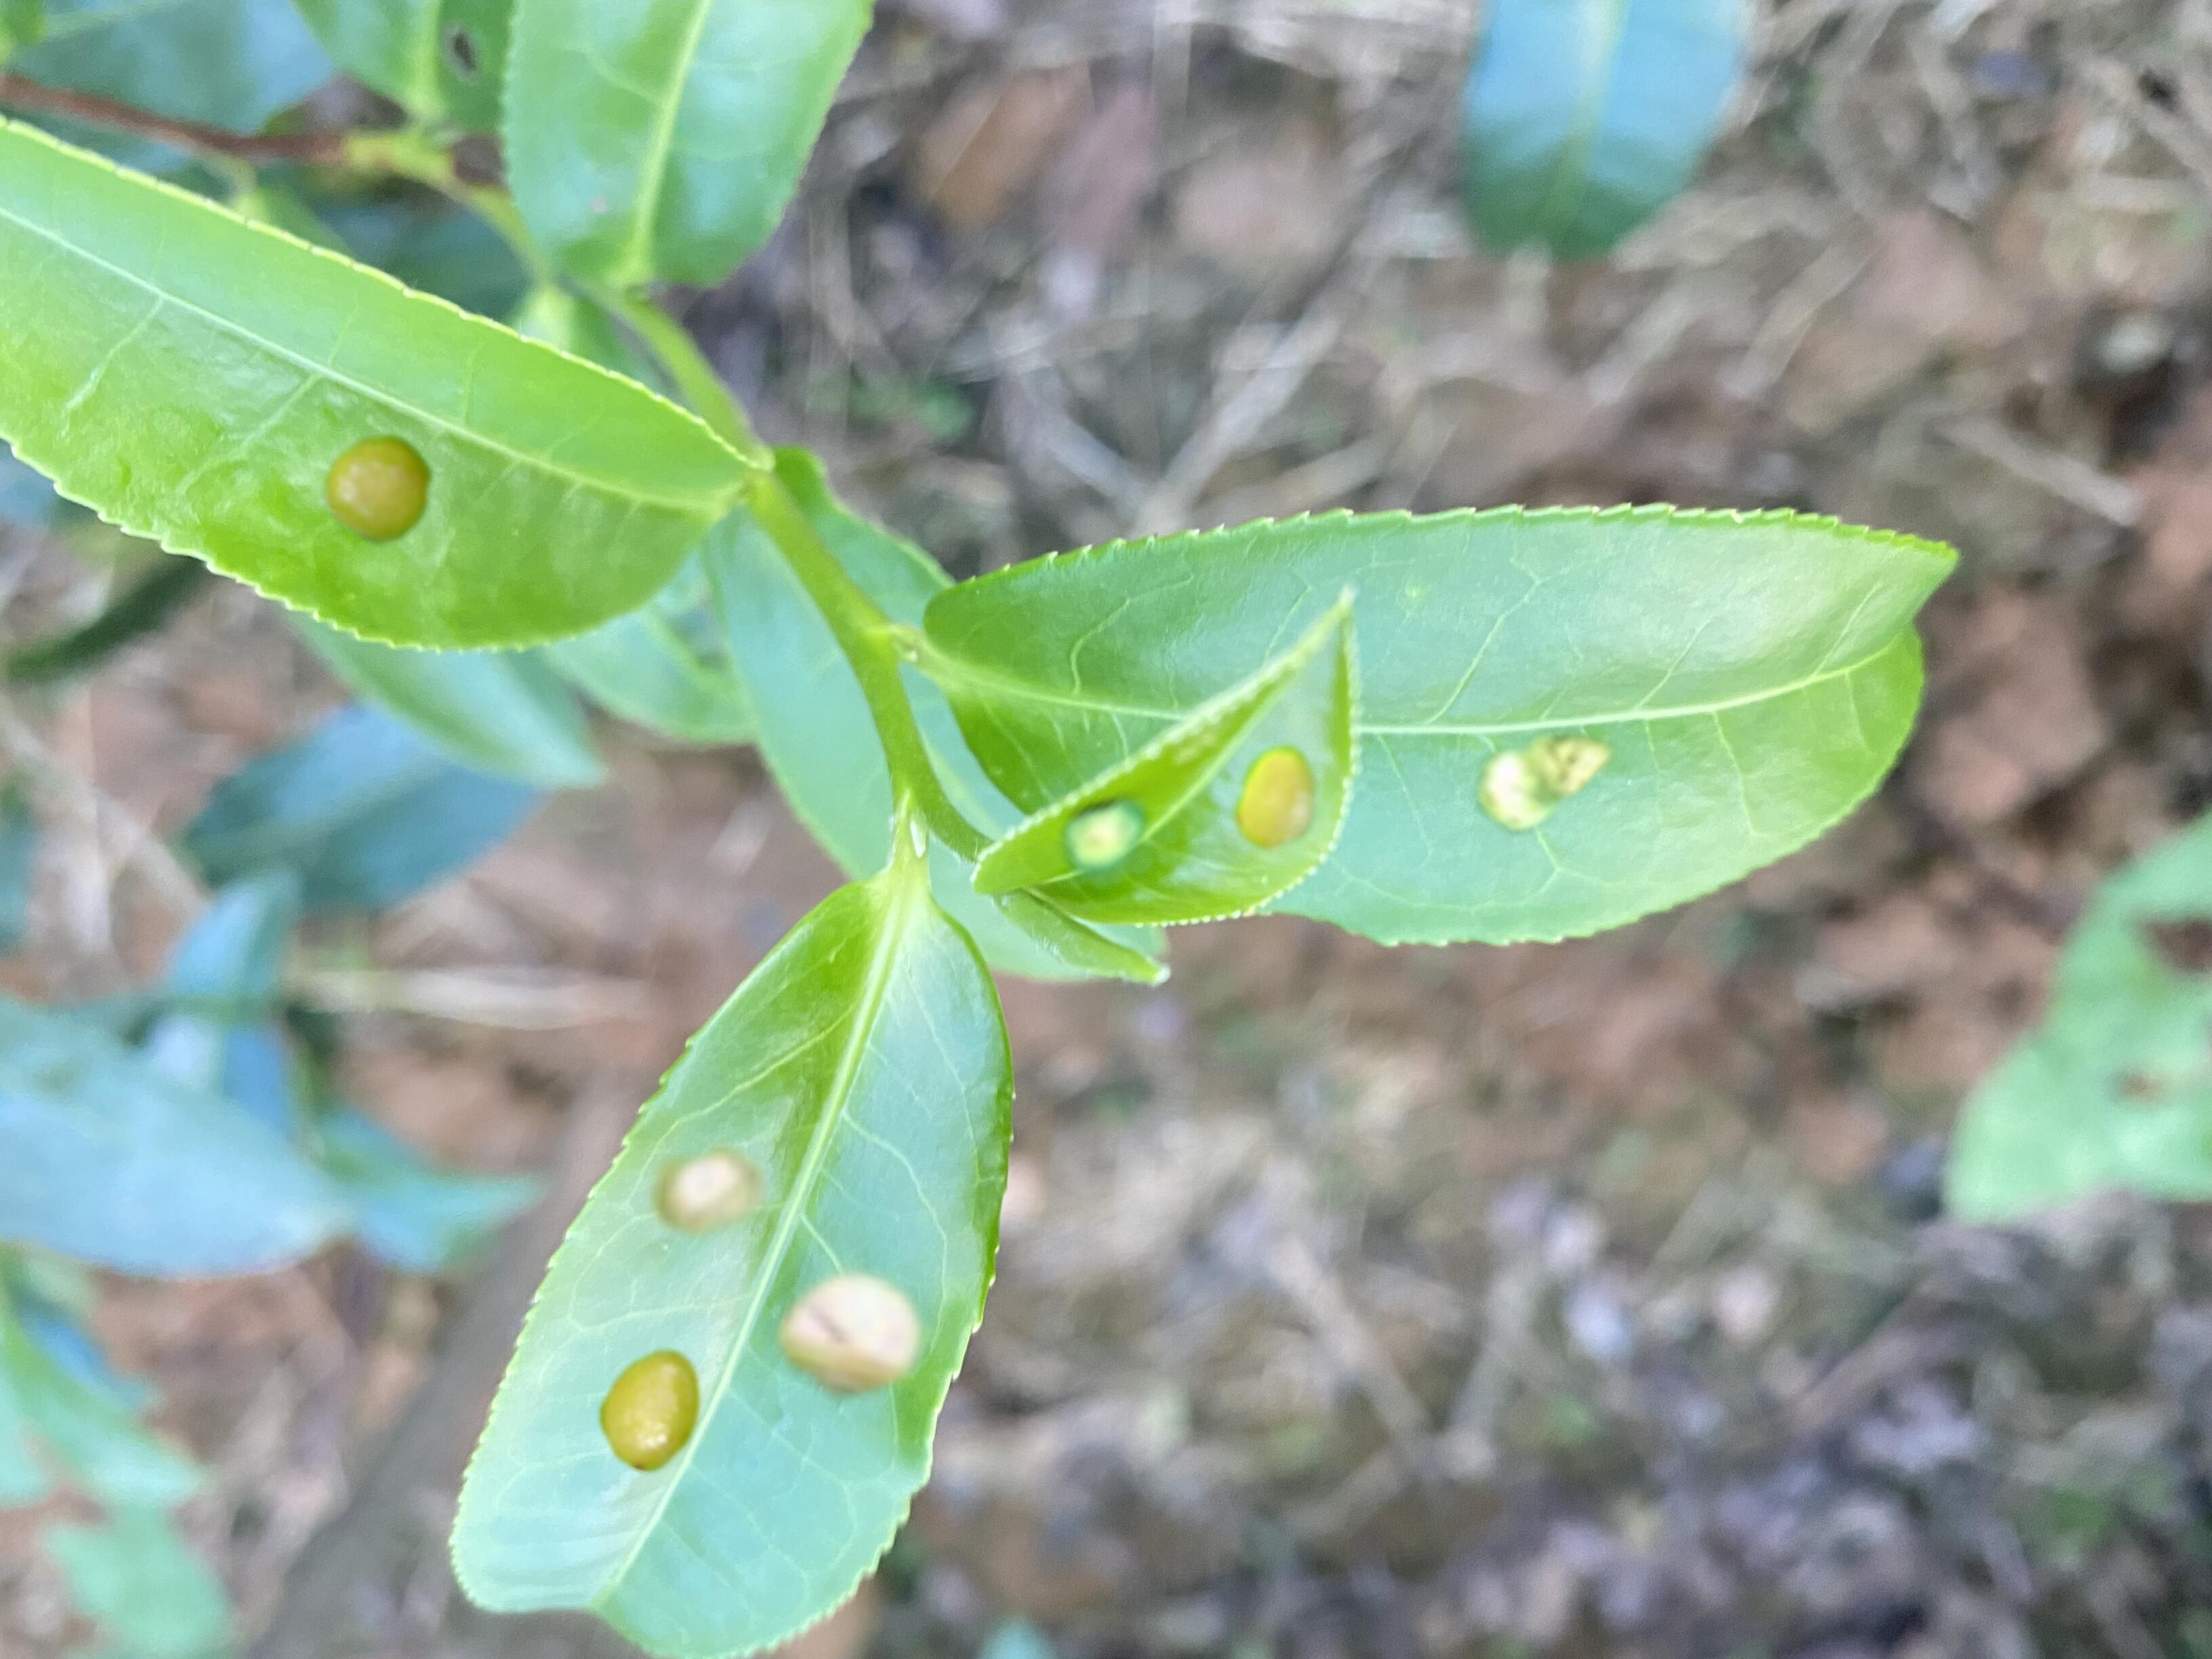chabing_high: (449, 871, 1014, 1659), (972, 580, 1357, 931)
chabing_low: (932, 500, 1961, 945), (2, 112, 772, 655)
